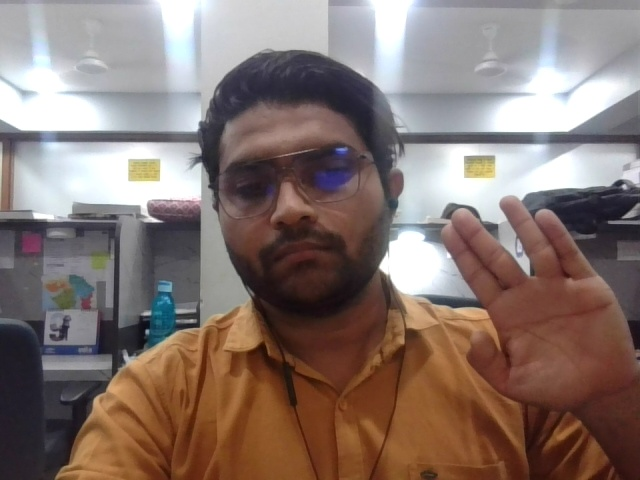LiveLong: (434, 195, 628, 404)
